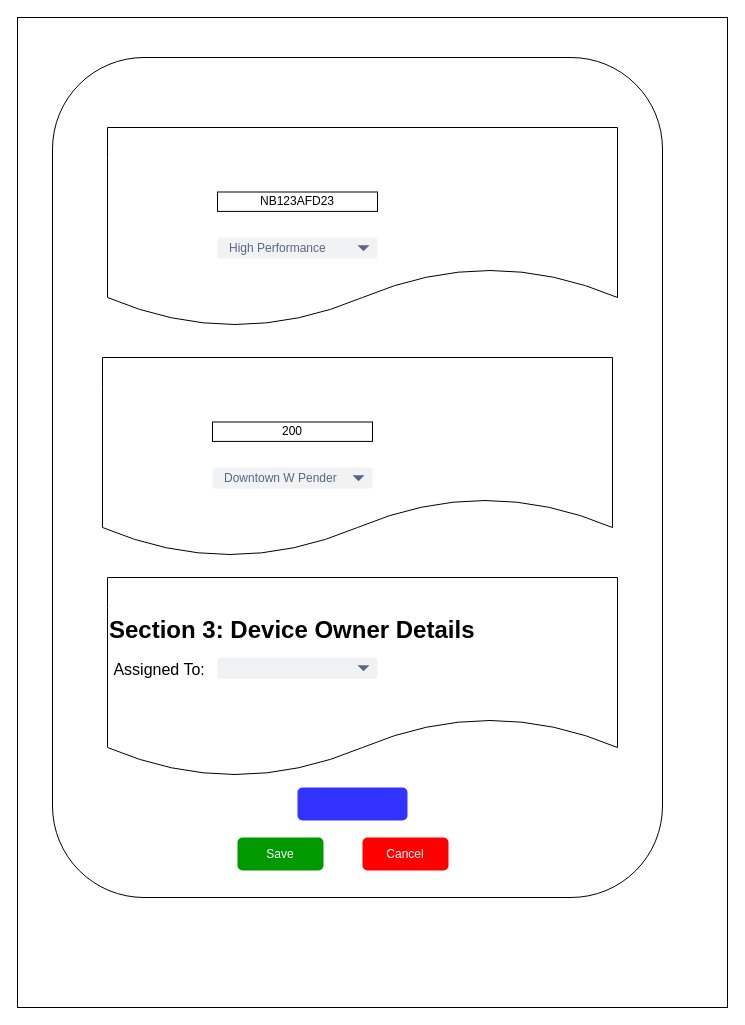
The diagram is 745 pixels wide and 1025 high, and some of its shapes have lost their labels. The shapes that lost their labels are listed below. From the top down, each one's box as (x1, y1, x2, y2) in pixels, then its label:
(106, 126, 618, 328): Section 1: Device Details Asset Number Device Type
(102, 356, 612, 558): Section 2: Assigned Office Details Office Number Office Name
(217, 657, 377, 678): Adam Hodgins
(297, 787, 407, 820): Refresh Device
